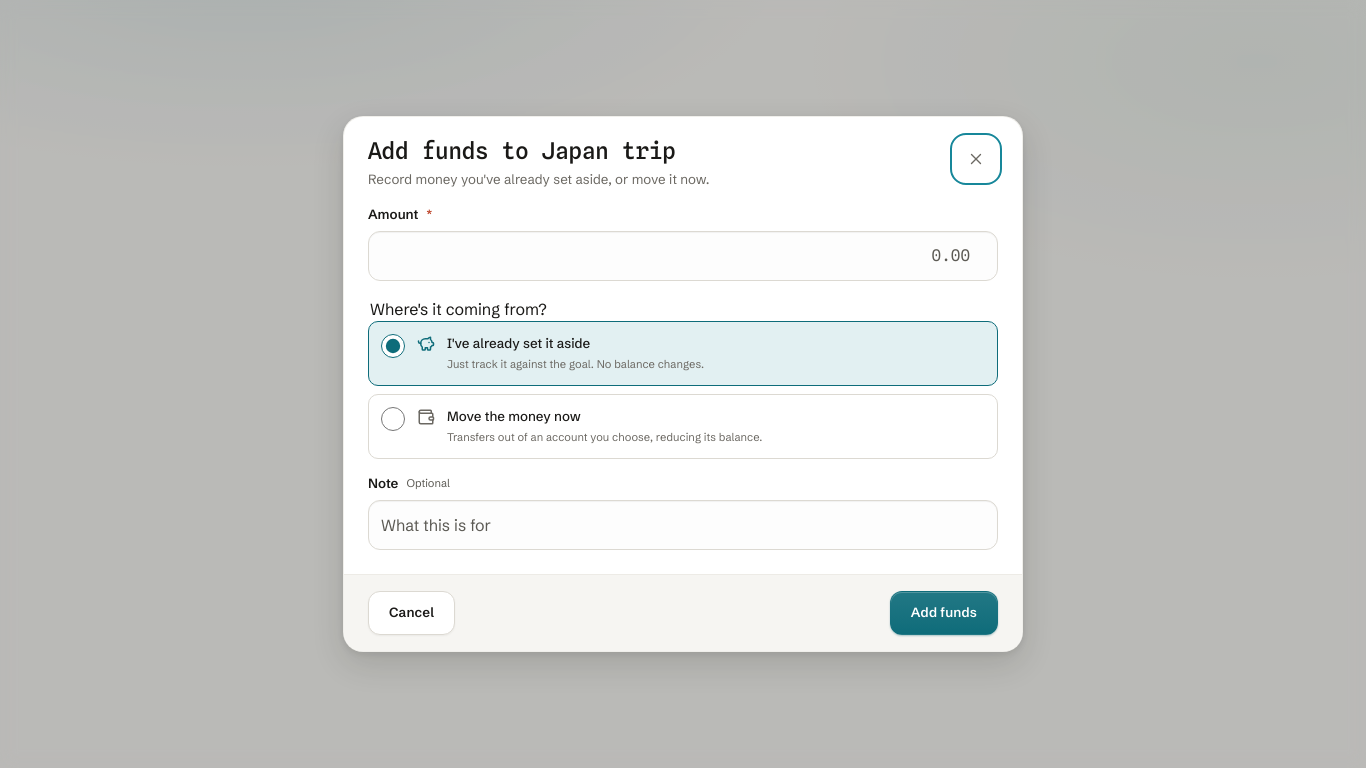
AddFundsModal › warns when the transfer would overdraw the source but still allows it
Type "900" into the number field named "amount to add" at (683, 256), box 368,231 -> 998,281
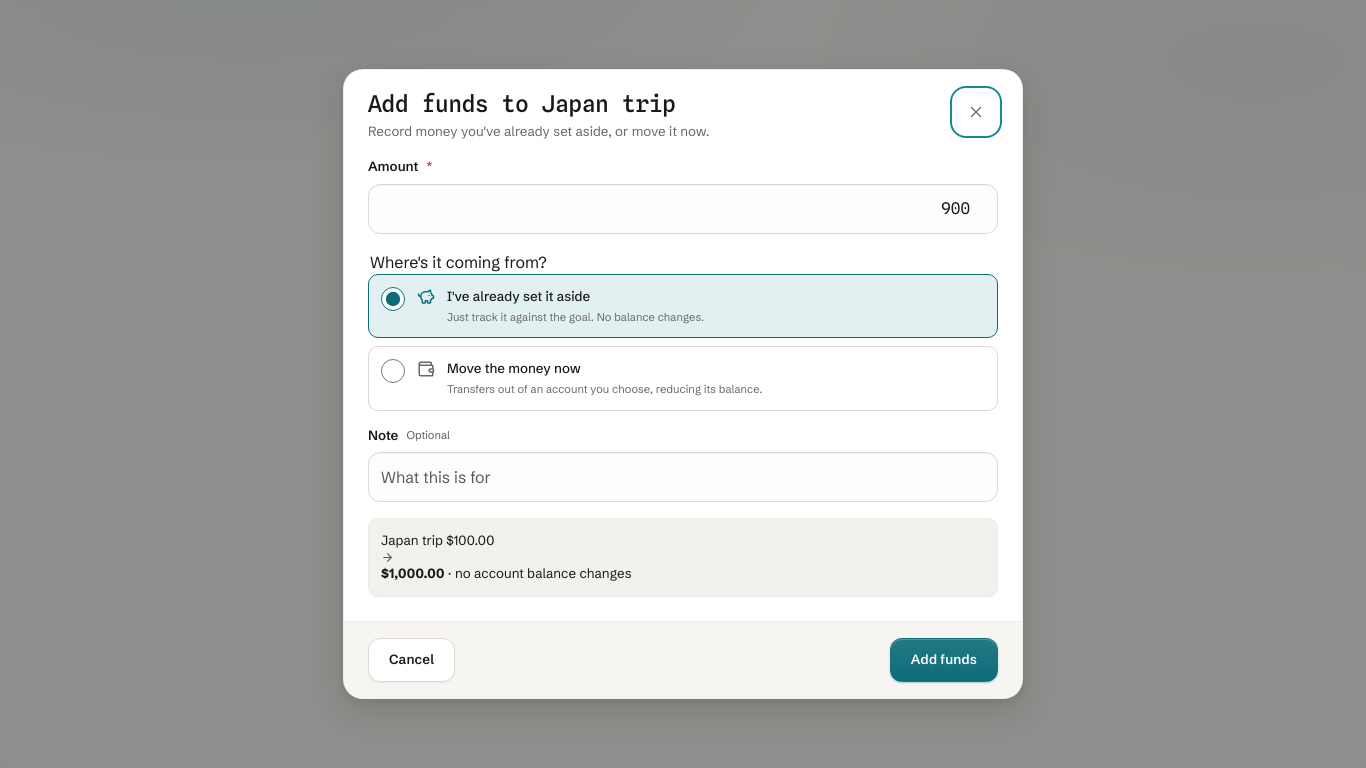
Click the radio button labelled "Move the money now" at (393, 371), box 381,359 -> 405,383
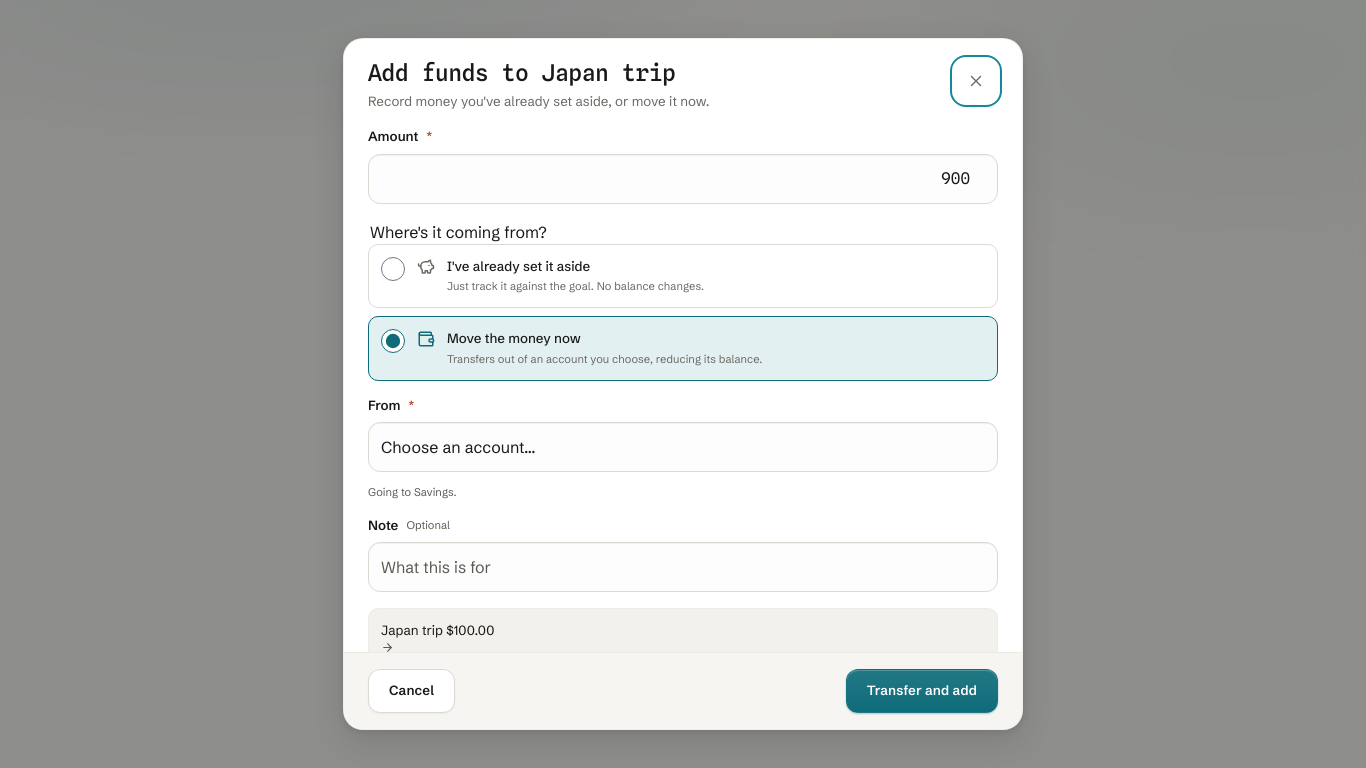
Select "Checking — $500.00" in the dropdown labelled "From *" at (683, 447), box 368,422 -> 998,472
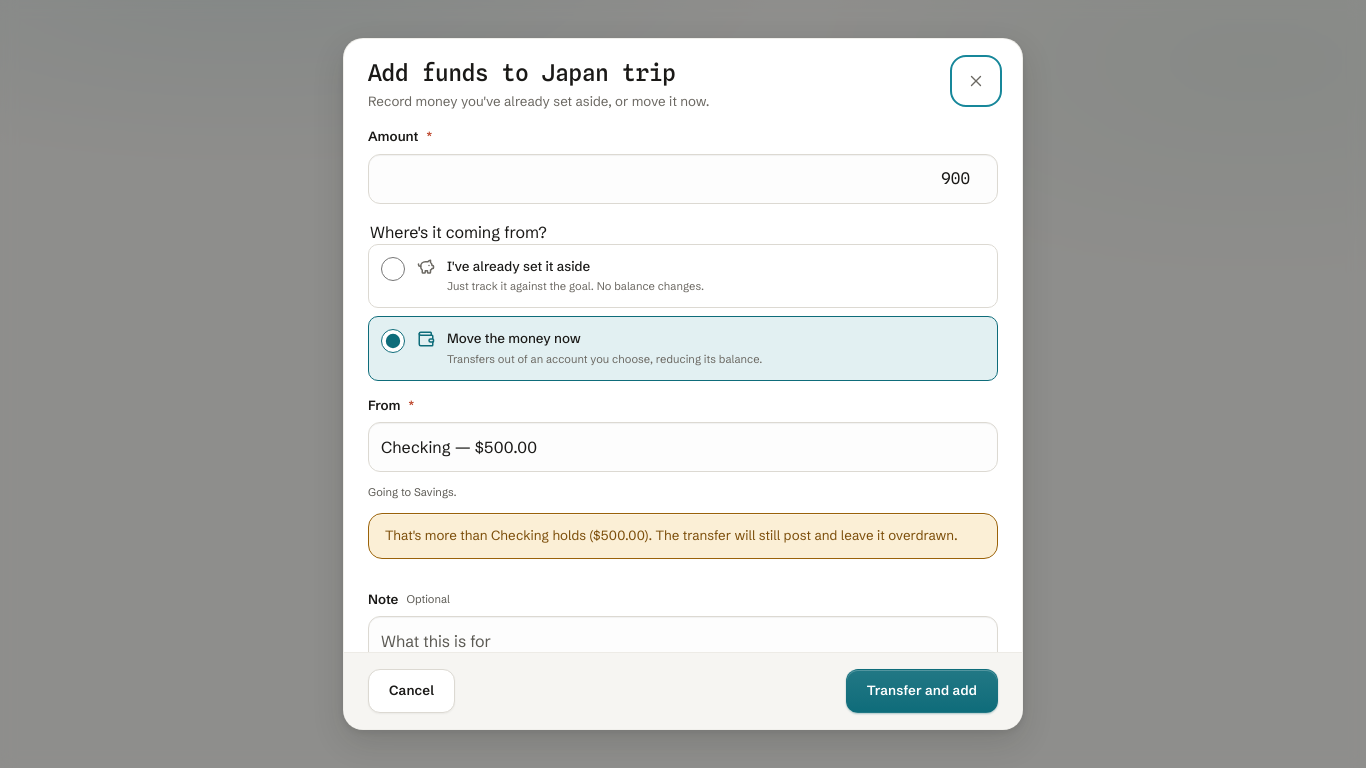
Expected: the button "Transfer and add" is enabled, 846,669 -> 998,713
Expected: the text "leave it overdrawn" is shown, 644,527 -> 958,543
